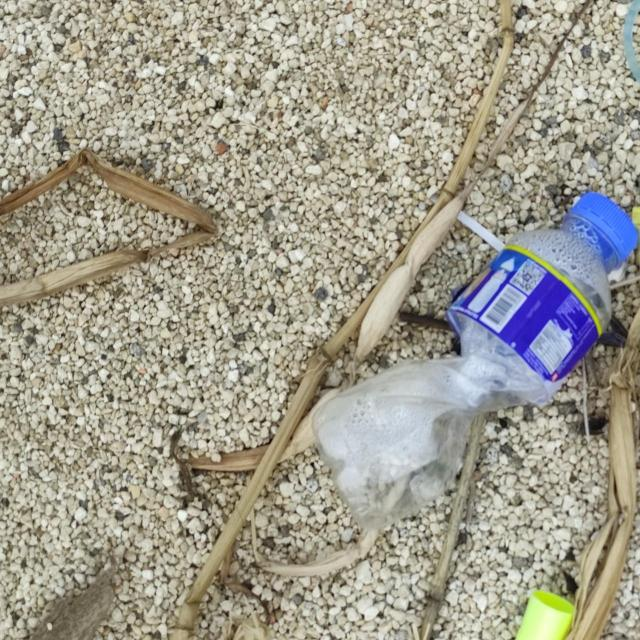plastic_waste: (307, 197, 639, 539)
